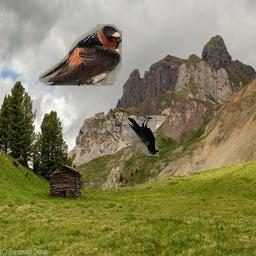Crow: (127, 116, 160, 157)
Swallow: (40, 24, 123, 86)
